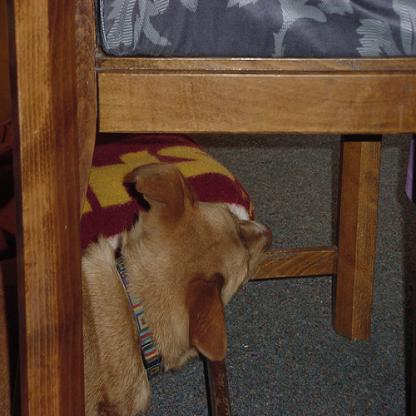dog: (83, 163, 274, 415)
